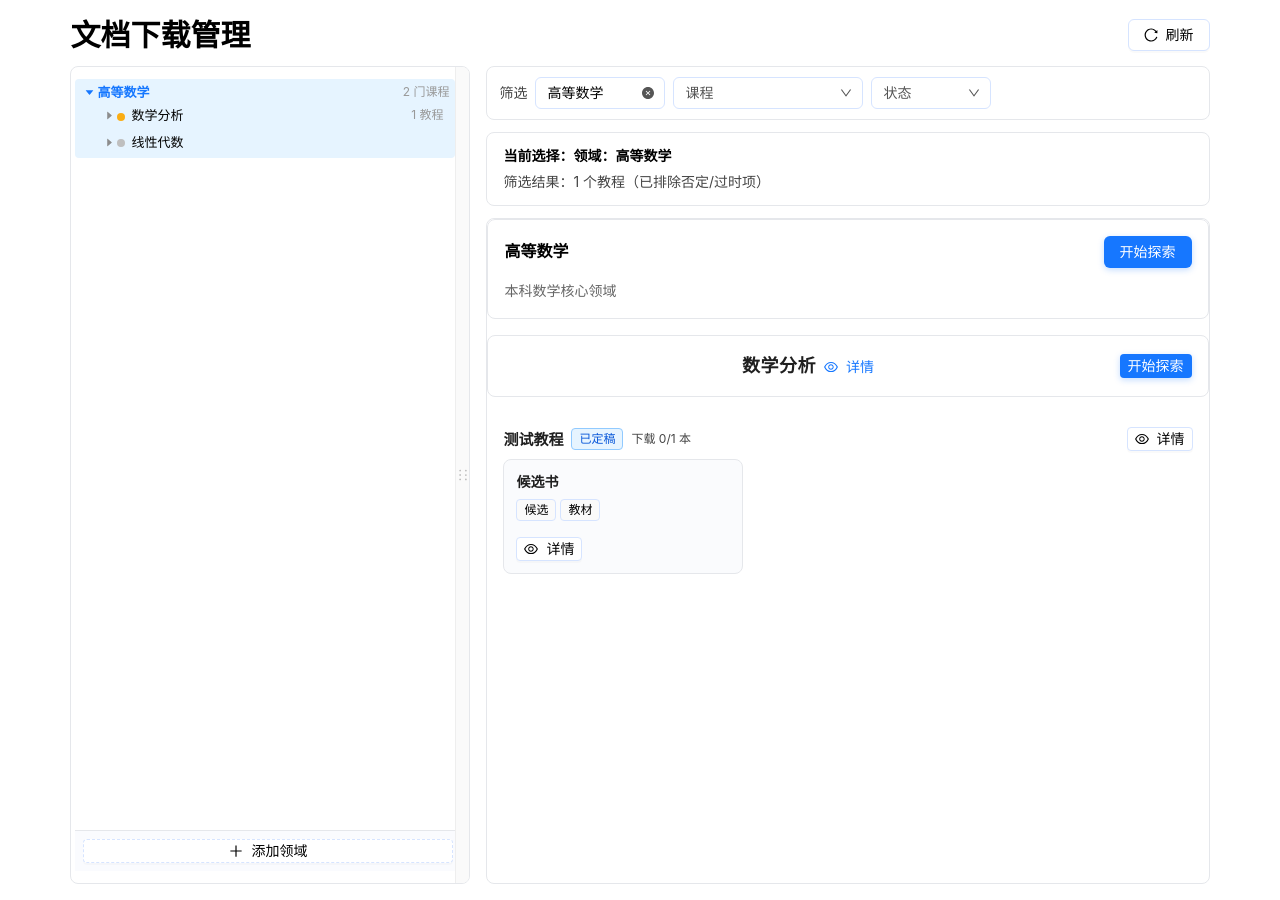
Test: 文档下载管理 Downloads v2（真实领域课程体系，2026-08-24 REQ-059） › BookDetailModal 渠道操作 › 非 downloaded 状态书籍不显示验证完毕按钮
The image size is (1280, 900).
Click the text "数学分析".
click(150, 115)  # box [117, 107, 183, 123]
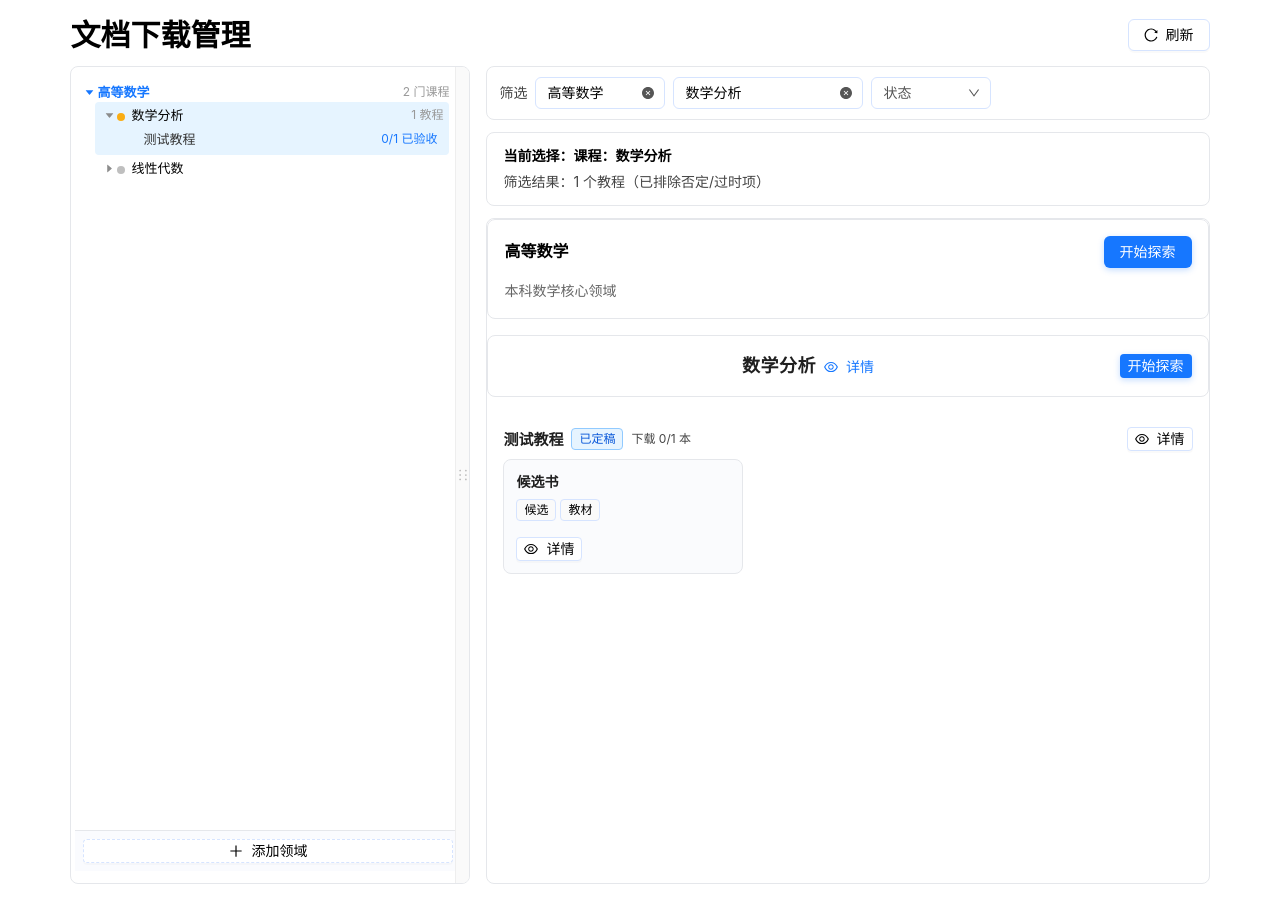
Click the button "详情" below "教材".
click(549, 549)  # box [516, 537, 582, 561]
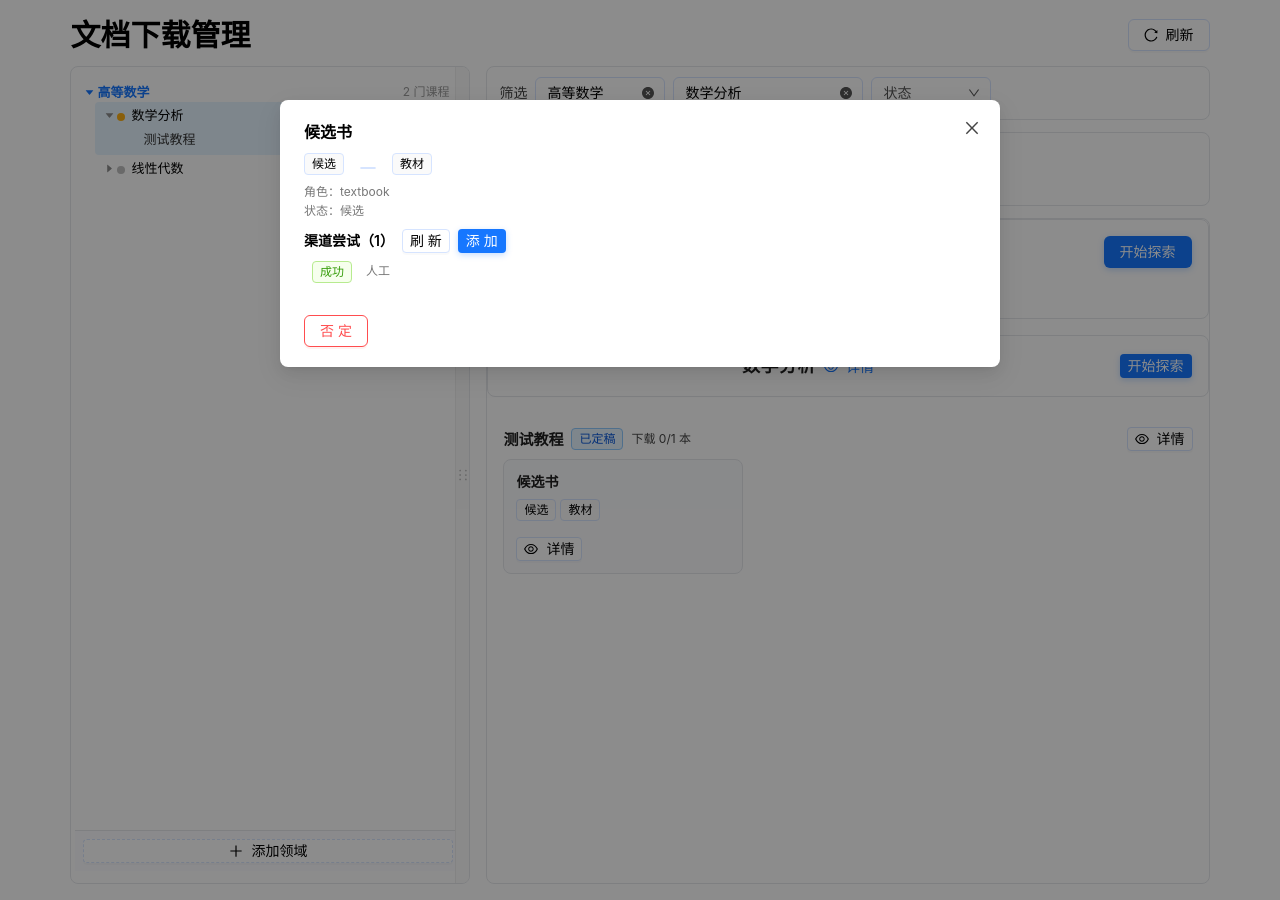
Expected: the text "成功" is shown, [312, 261, 352, 283]
Expected: the button "否 定" is shown, [304, 315, 368, 347]
